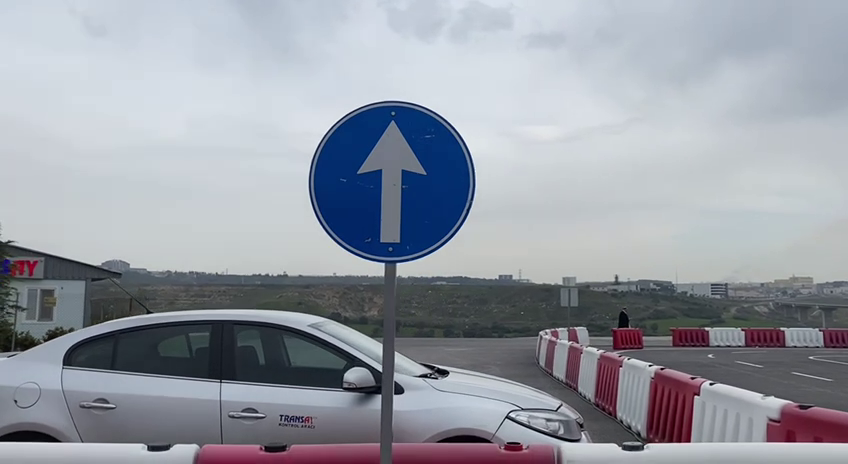forward: (305, 96, 480, 265)
